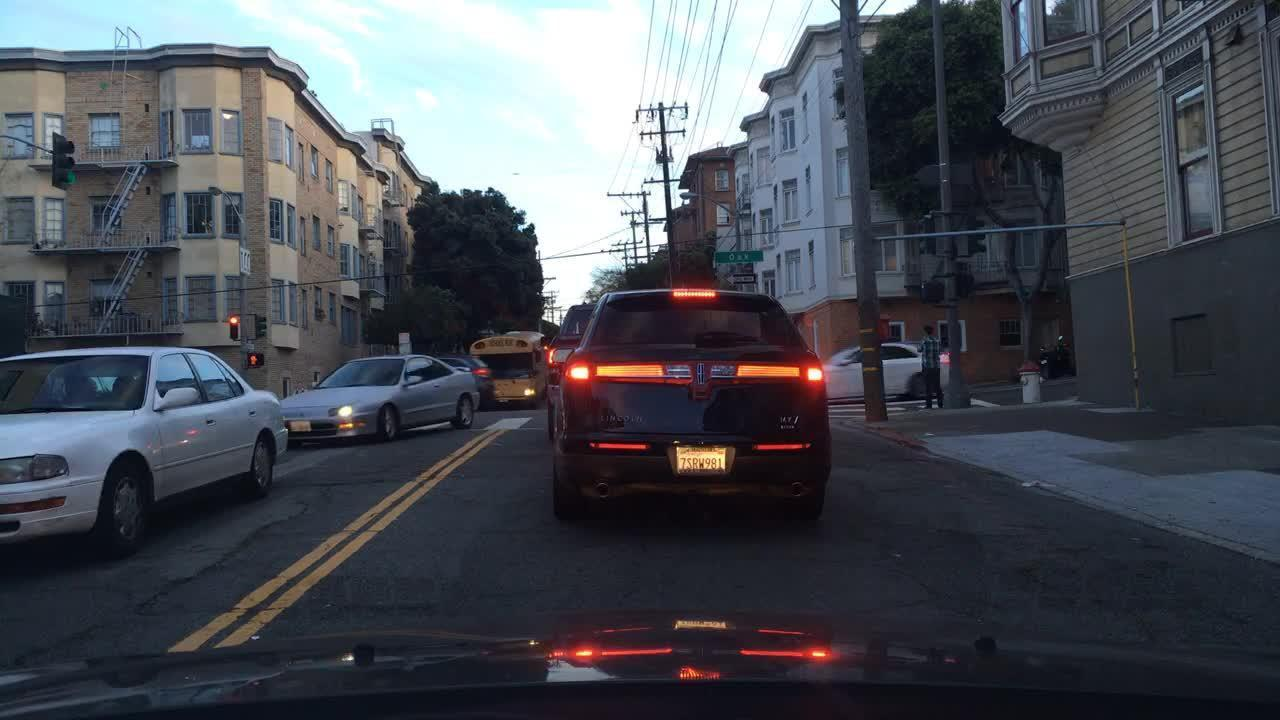lincoln: (692, 357, 710, 391)
